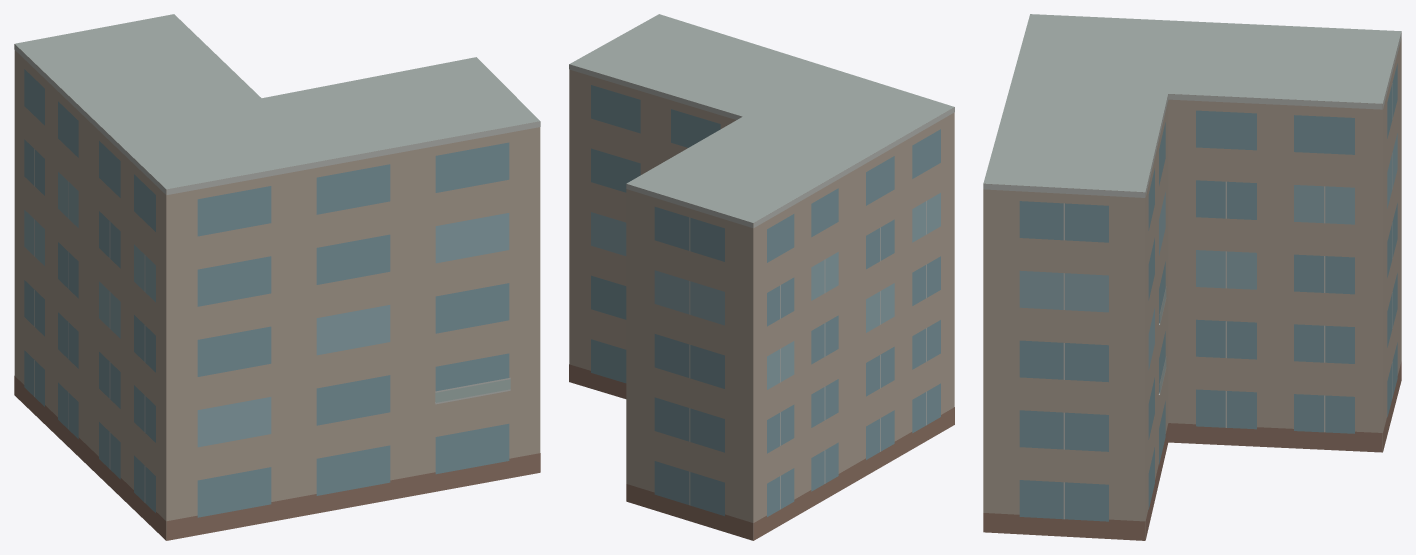
Rendered from survey-upis-32981253.glb.
3 views of the same model, side by side, from view 1: azimuth 30°, elevation 25°; view 2: azimuth 150°, elevation 25°; view 3: azimuth 270°, elevation 25° (orthographic). The views are drawn at different scales.
Visible parts, largest first — view 1: survey-upis-32981253.tmp; view 2: survey-upis-32981253.tmp; view 3: survey-upis-32981253.tmp.
Part boxes in pixels (x1=…): survey-upis-32981253.tmp: x1=14, y1=14, x2=540, y2=540; survey-upis-32981253.tmp: x1=569, y1=14, x2=954, y2=540; survey-upis-32981253.tmp: x1=983, y1=14, x2=1401, y2=540.
Bounding box in the file's own units: 16.13 × 14.7 × 16.
